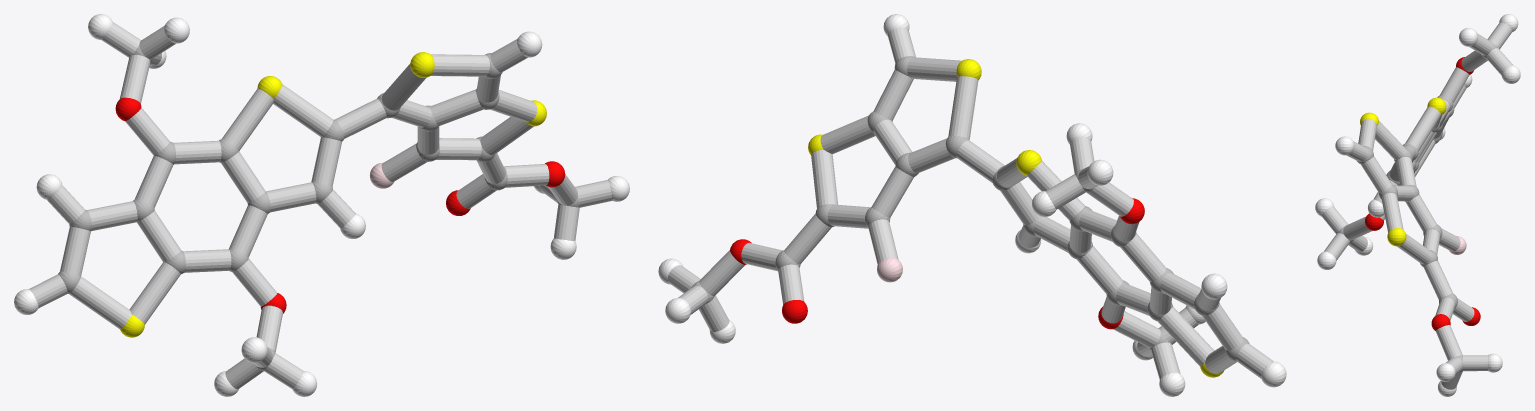
Rendered from color.glb.
3 renders of one model, left to right at view 1: azimuth 30°, elevation 25°; view 2: azimuth 150°, elevation 25°; view 3: azimuth 270°, elevation 25°, orthographic. The views are drawn at different scales.
Parts seen in each view (by area): view 1: grp15205, grp8689, grp1, grp7241, grp13395; view 2: grp15205, grp8689, grp1, grp13395, grp7241; view 3: grp15205, grp8689, grp1, grp13395, grp7241.
Part boxes in pixels (left/top/right/bottom): grp15205: left=29, top=22, right=612, bottom=389; grp8689: left=14, top=14, right=629, bottom=396; grp1: left=58, top=46, right=579, bottom=371; grp7241: left=120, top=52, right=546, bottom=337; grp13395: left=115, top=97, right=565, bottom=313; grp15205: left=668, top=27, right=1273, bottom=379; grp8689: left=658, top=14, right=1286, bottom=396; grp1: left=691, top=56, right=1249, bottom=361; grp13395: left=730, top=198, right=1144, bottom=329; grp7241: left=808, top=59, right=1224, bottom=377; grp15205: left=1321, top=22, right=1512, bottom=389; grp8689: left=1315, top=14, right=1520, bottom=396; grp1: left=1337, top=42, right=1497, bottom=372; grp13395: left=1365, top=57, right=1480, bottom=330; grp7241: left=1360, top=97, right=1446, bottom=246.
Size of the model in its own units: 16.41 by 8.11 by 6.44.
